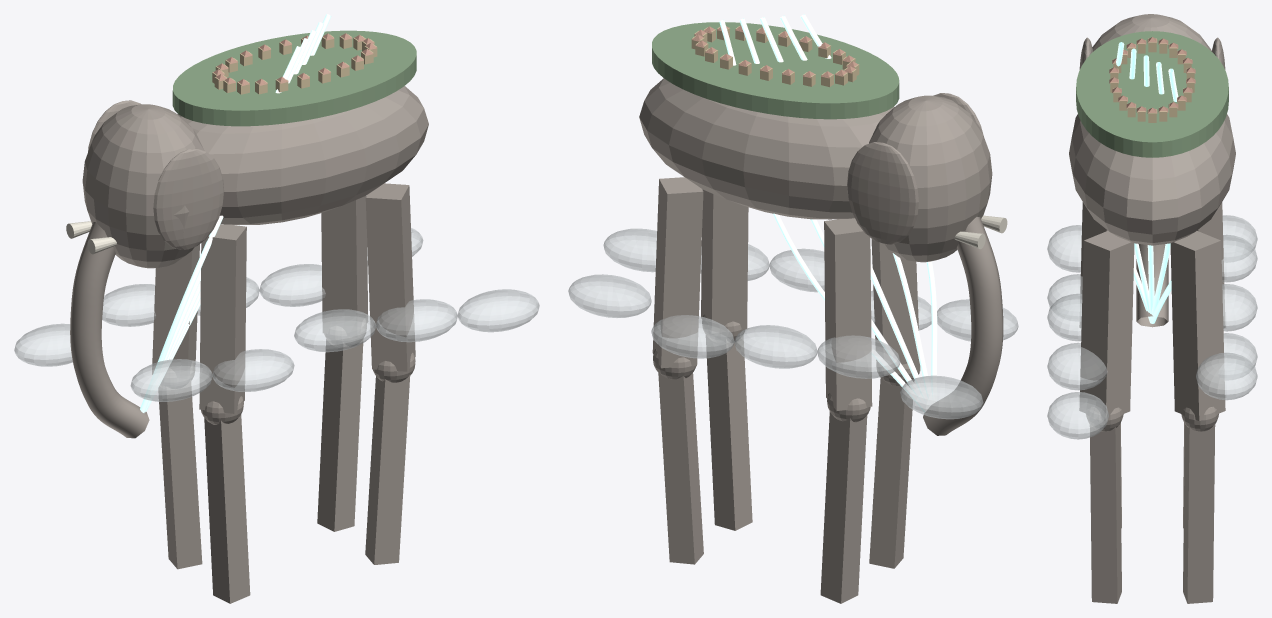
The model's file is zou-zunesha.glb.
The picture shows the model from 3 angles, left to right: view 1: azimuth 30°, elevation 25°; view 2: azimuth 150°, elevation 25°; view 3: azimuth 270°, elevation 25°; orthographic projection. The views are drawn at different scales.
Parts seen in each view (by area): view 1: Zunesha body, Zou on back, Zunesha head, Zunesha upper leg 3, Zunesha upper leg 1, Zunesha lower leg 4, Zunesha trunk, Zunesha lower leg 1, Zunesha lower leg 3, Zunesha lower leg 2, Zunesha upper leg 4, Zunesha ear L (+10 smaller); view 2: Zunesha body, Zou on back, Zunesha head, Zunesha upper leg 2, Zunesha upper leg 4, Zunesha lower leg 3, Zunesha trunk, Zunesha lower leg 2, Zunesha lower leg 4, Zunesha lower leg 1, Zunesha upper leg 3, Zunesha ear R (+17 smaller); view 3: Zunesha body, Zou on back, Zunesha upper leg 3, Zunesha upper leg 4, Zunesha lower leg 4, Zunesha lower leg 3, Cloud bank 9, Cloud bank 10, Cloud bank 8, Zunesha head, Zunesha trunk, Cloud bank 3 (+15 smaller).
Part boxes in pixels (<box>): Zunesha body: <box>177,86,428,224</box>; Zou on back: <box>172,30,416,126</box>; Zunesha head: <box>82,104,204,268</box>; Zunesha upper leg 3: <box>365,183,415,371</box>; Zunesha upper leg 1: <box>199,224,246,413</box>; Zunesha lower leg 4: <box>317,339,363,531</box>; Zunesha trunk: <box>70,222,149,438</box>; Zunesha lower leg 1: <box>204,414,250,603</box>; Zunesha lower leg 3: <box>365,374,410,564</box>; Zunesha lower leg 2: <box>158,380,202,569</box>; Zunesha upper leg 4: <box>321,195,367,337</box>; Zunesha ear L: <box>153,148,224,249</box>; Zunesha body: <box>639,78,894,219</box>; Zou on back: <box>652,22,899,119</box>; Zunesha head: <box>869,95,992,262</box>; Zunesha upper leg 2: <box>824,218,872,410</box>; Zunesha upper leg 4: <box>652,177,703,368</box>; Zunesha lower leg 3: <box>706,335,752,530</box>; Zunesha trunk: <box>923,217,1003,435</box>; Zunesha lower leg 2: <box>820,411,867,603</box>; Zunesha lower leg 4: <box>658,371,703,564</box>; Zunesha lower leg 1: <box>869,377,912,568</box>; Zunesha upper leg 3: <box>701,189,748,333</box>; Zunesha ear R: <box>847,142,918,244</box>; Zunesha body: <box>1069,114,1235,245</box>; Zou on back: <box>1076,31,1228,157</box>; Zunesha upper leg 3: <box>1079,231,1134,420</box>; Zunesha upper leg 4: <box>1170,231,1225,421</box>; Zunesha lower leg 4: <box>1183,423,1215,603</box>; Zunesha lower leg 3: <box>1090,424,1121,603</box>; Cloud bank 9: <box>1196,352,1257,400</box>; Cloud bank 10: <box>1047,392,1108,439</box>; Cloud bank 8: <box>1047,342,1107,390</box>; Zunesha head: <box>1092,14,1211,51</box>; Zunesha trunk: <box>1136,244,1168,327</box>; Cloud bank 3: <box>1222,234,1257,282</box>.
Bounding box in the file's own units: 16.3 × 18.47 × 6.8.
